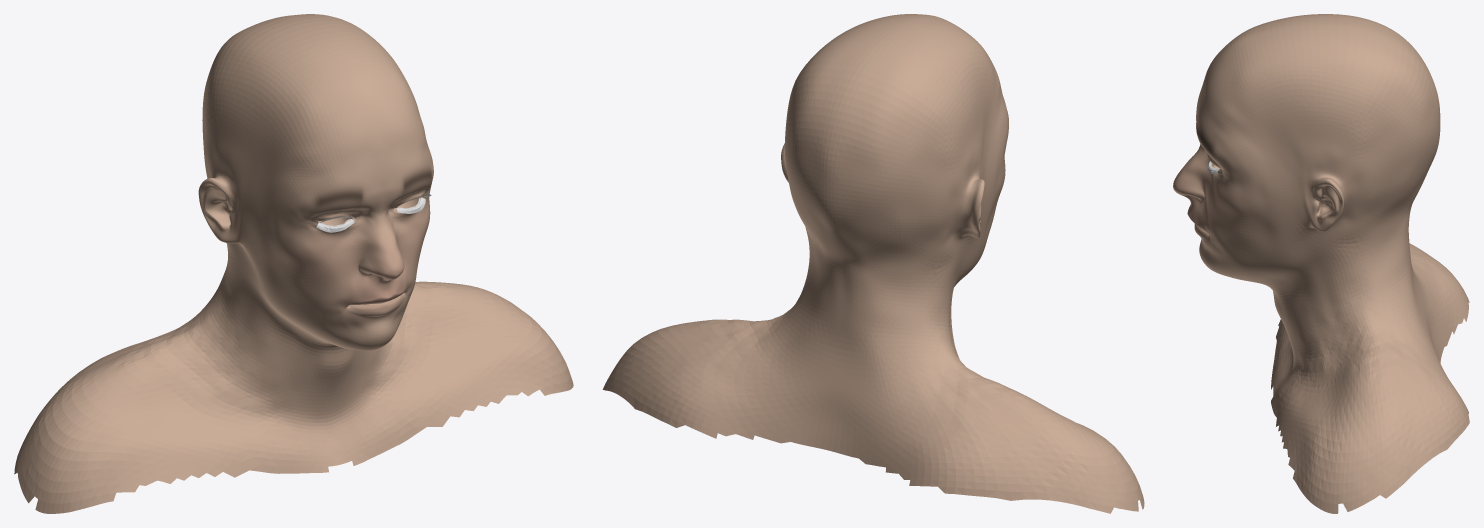
The model's file is hd_m_light_full.glb.
The picture shows the model from 3 angles, left to right: view 1: azimuth 30°, elevation 25°; view 2: azimuth 150°, elevation 25°; view 3: azimuth 270°, elevation 25°; orthographic projection. The views are drawn at different scales.
Parts seen in each view (by area): view 1: skin; view 2: skin; view 3: skin.
Part boxes in pixels (x1,y1,x2,y2): skin: (14,14,573,513); skin: (602,14,1144,513); skin: (1173,14,1469,513).
Size of the model in its own units: 0.4432 by 0.3314 by 0.2381.
